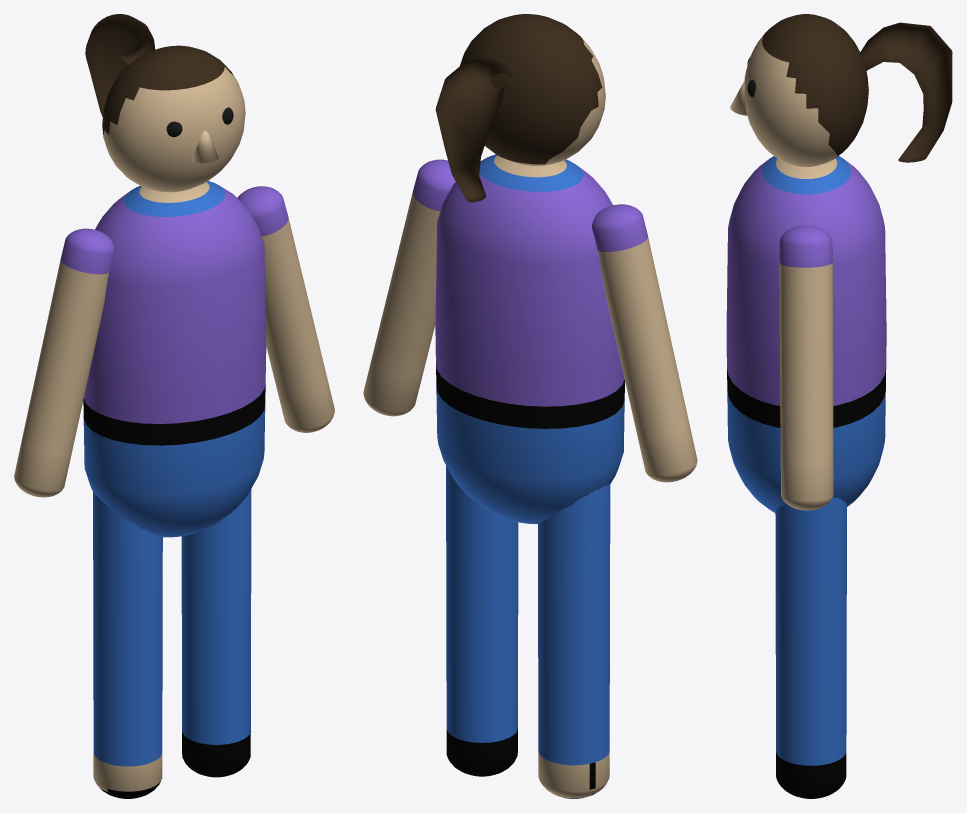
File: anya.fbx
3 renders of one model, left to right at view 1: azimuth 30°, elevation 25°; view 2: azimuth 150°, elevation 25°; view 3: azimuth 270°, elevation 25°, orthographic. The views are drawn at different scales.
Visible parts, largest first — view 1: Sphere.005; view 2: Sphere.005; view 3: Sphere.005.
Boxes of the visible parts, bbox=[...] form: Sphere.005: bbox=[14, 14, 334, 798]; Sphere.005: bbox=[363, 14, 697, 798]; Sphere.005: bbox=[726, 14, 952, 798].
Size of the model in its own units: 320 by 714 by 195.
